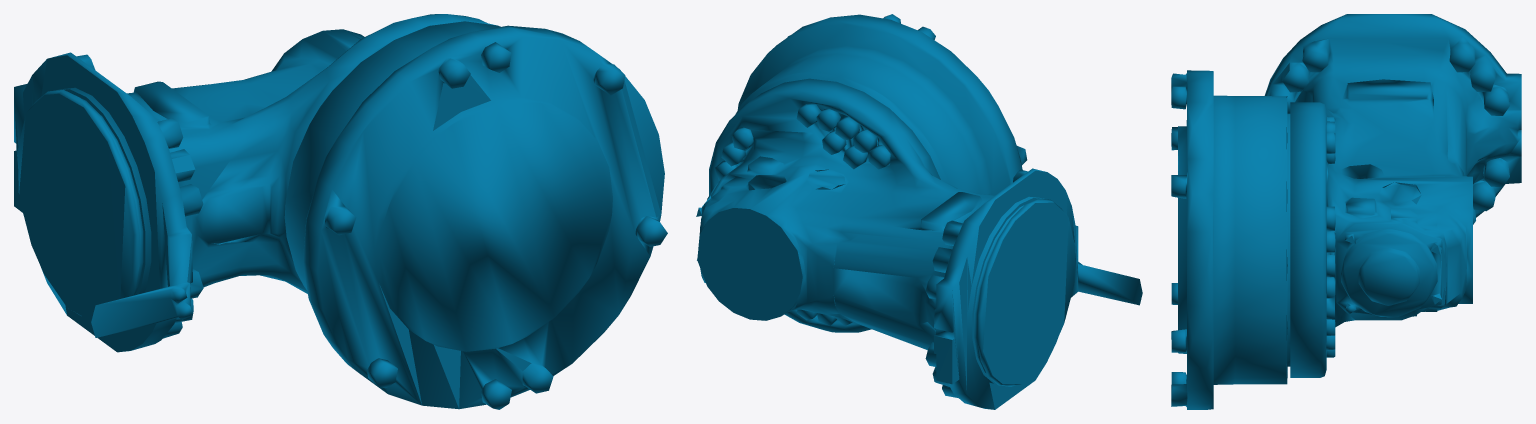
3 views of the same model, side by side, from view 1: azimuth 30°, elevation 25°; view 2: azimuth 150°, elevation 25°; view 3: azimuth 270°, elevation 25° (orthographic). The views are drawn at different scales.
Parts seen in each view (by area): view 1: link_4_r; view 2: link_4_r; view 3: link_4_r.
Part boxes in pixels (x1,y1,x2,y2): link_4_r: (14,14,667,409); link_4_r: (696,14,1142,409); link_4_r: (1171,14,1521,409).
Size of the model in its own units: 0.3742 by 0.2515 by 0.2438.
